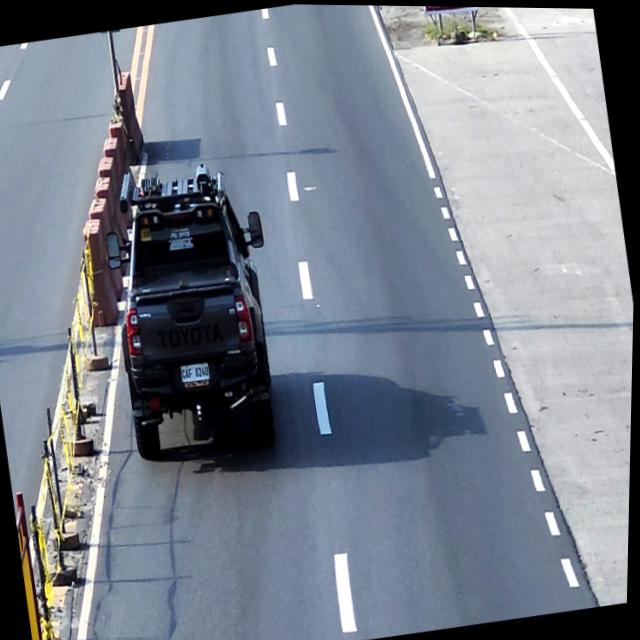Car: (91, 152, 301, 475)
License-Plate: (181, 361, 212, 383)
